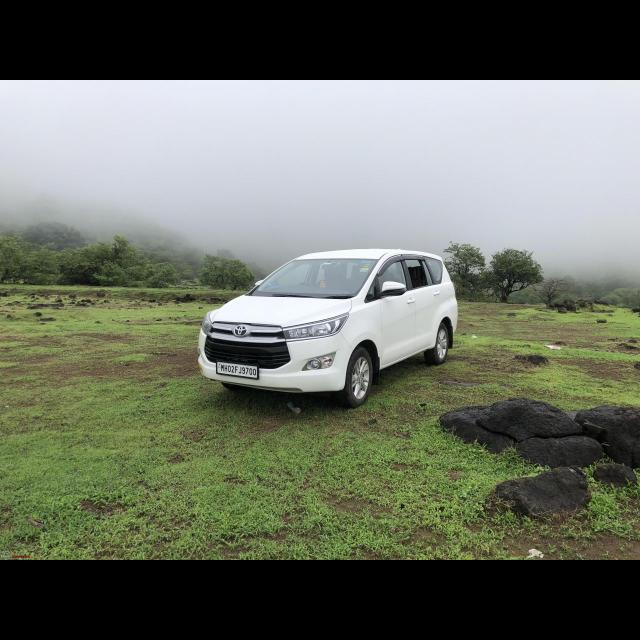number-plate: (216, 362, 262, 381)
vehicles: (200, 247, 462, 409)
